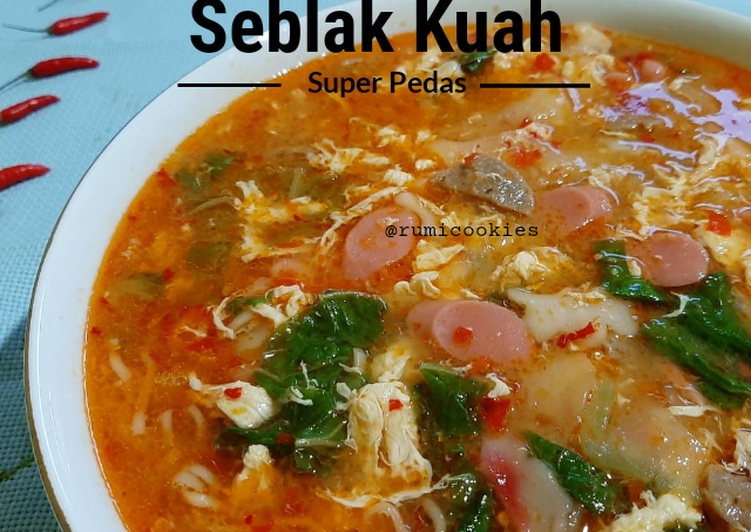seblak: (208, 96, 751, 532)
